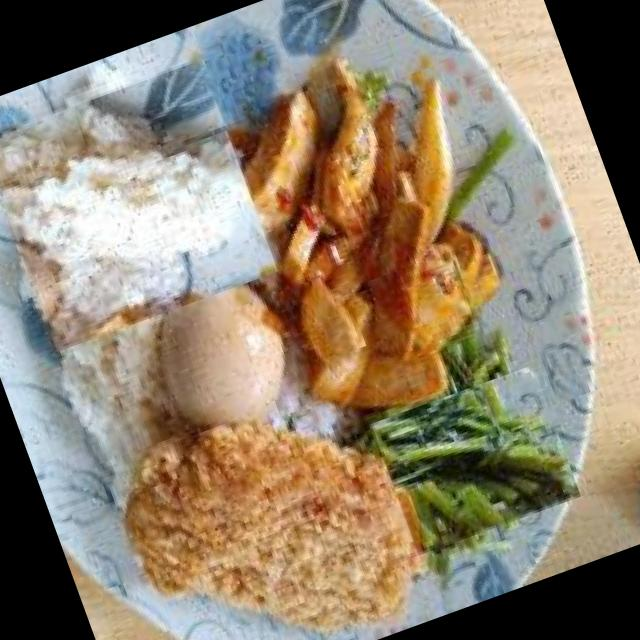fried_chicken: (99, 368, 455, 640)
rice: (0, 58, 277, 353)
water_spinach: (376, 360, 577, 560)
